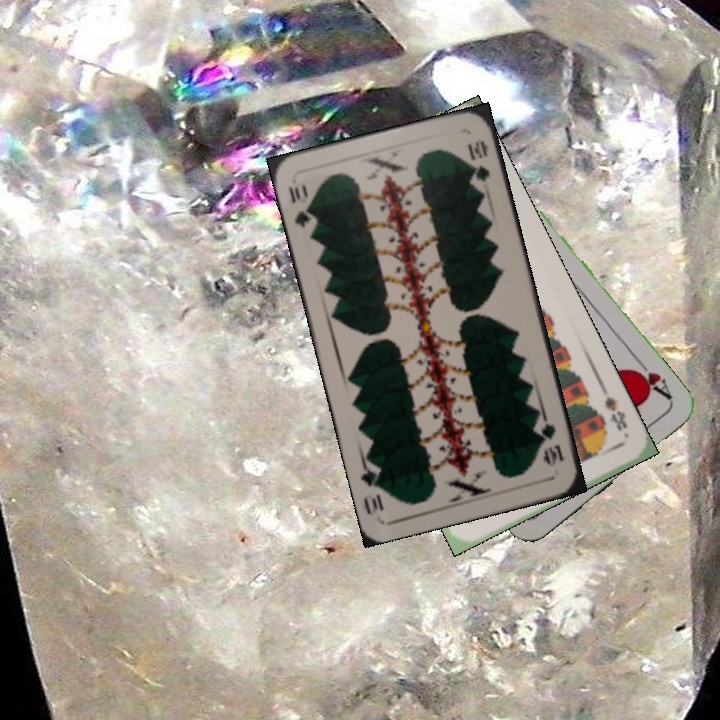G10: (535, 413, 567, 469), (284, 177, 316, 230)
HA: (628, 354, 675, 403)
S8: (598, 384, 630, 434)
